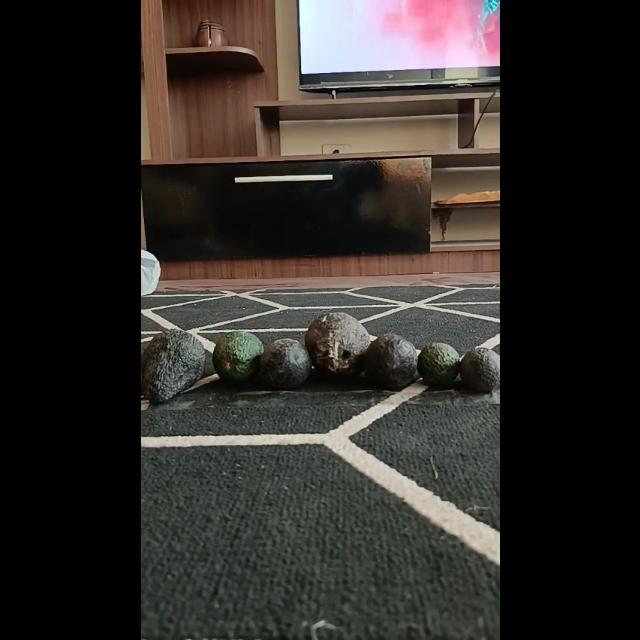Primera: (304, 311, 370, 377)
Segunda: (358, 333, 418, 389), (256, 338, 312, 389), (211, 331, 263, 384)
Tercera: (140, 328, 206, 404), (416, 341, 459, 385), (458, 346, 498, 392)
